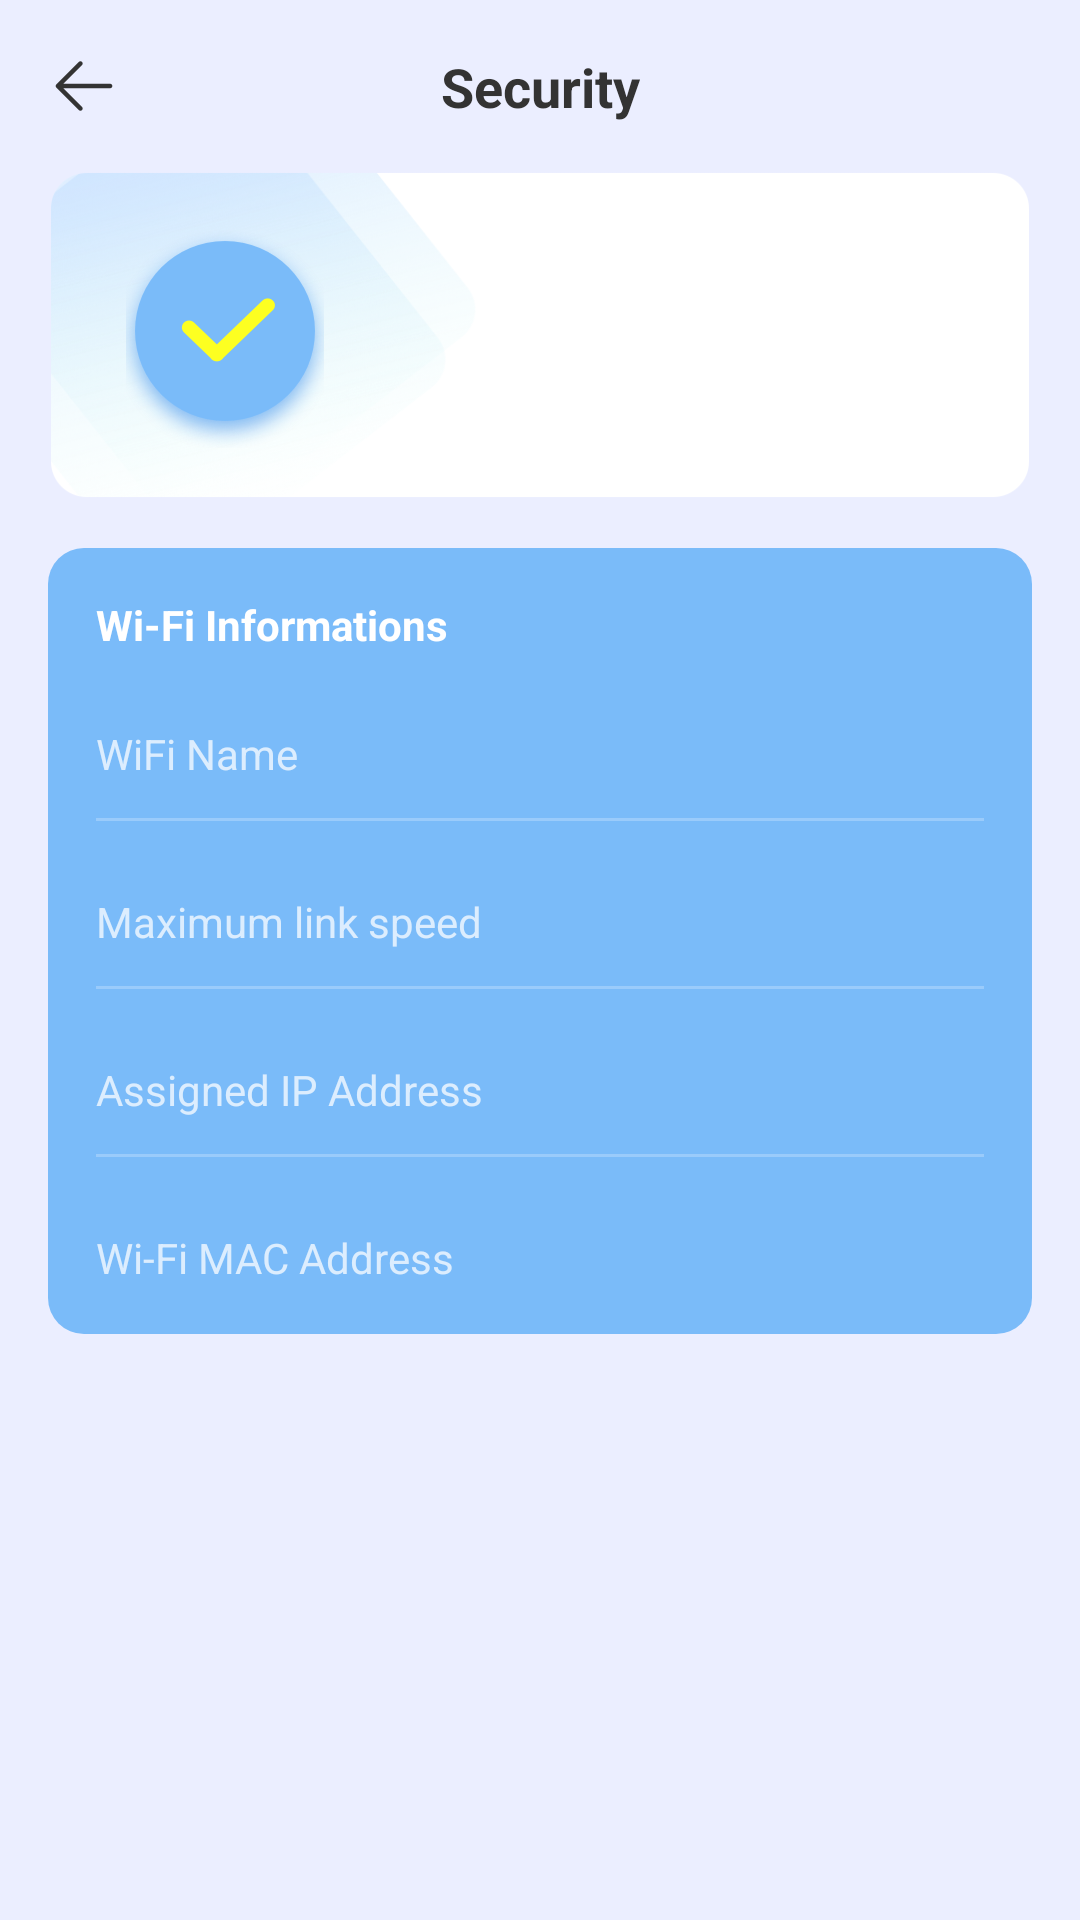

Locate icon controls on the screen. Image size 1080×1920, boxes as (x1, y1, x2, y2).
back: (55, 61, 113, 111)
